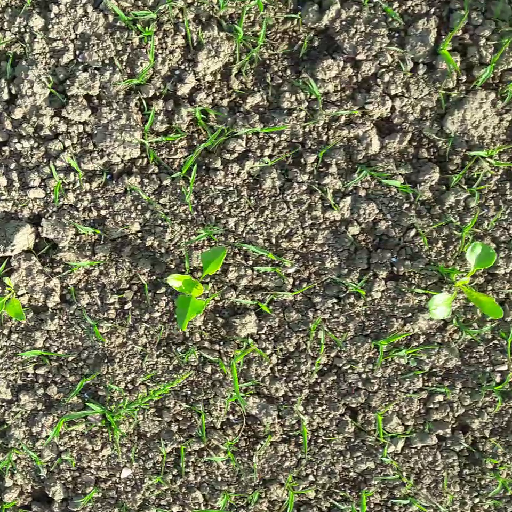sugarbeet: (427, 240, 504, 320), (163, 245, 227, 332), (1, 274, 28, 325)
weed: (1, 1, 511, 512), (91, 369, 196, 428)
